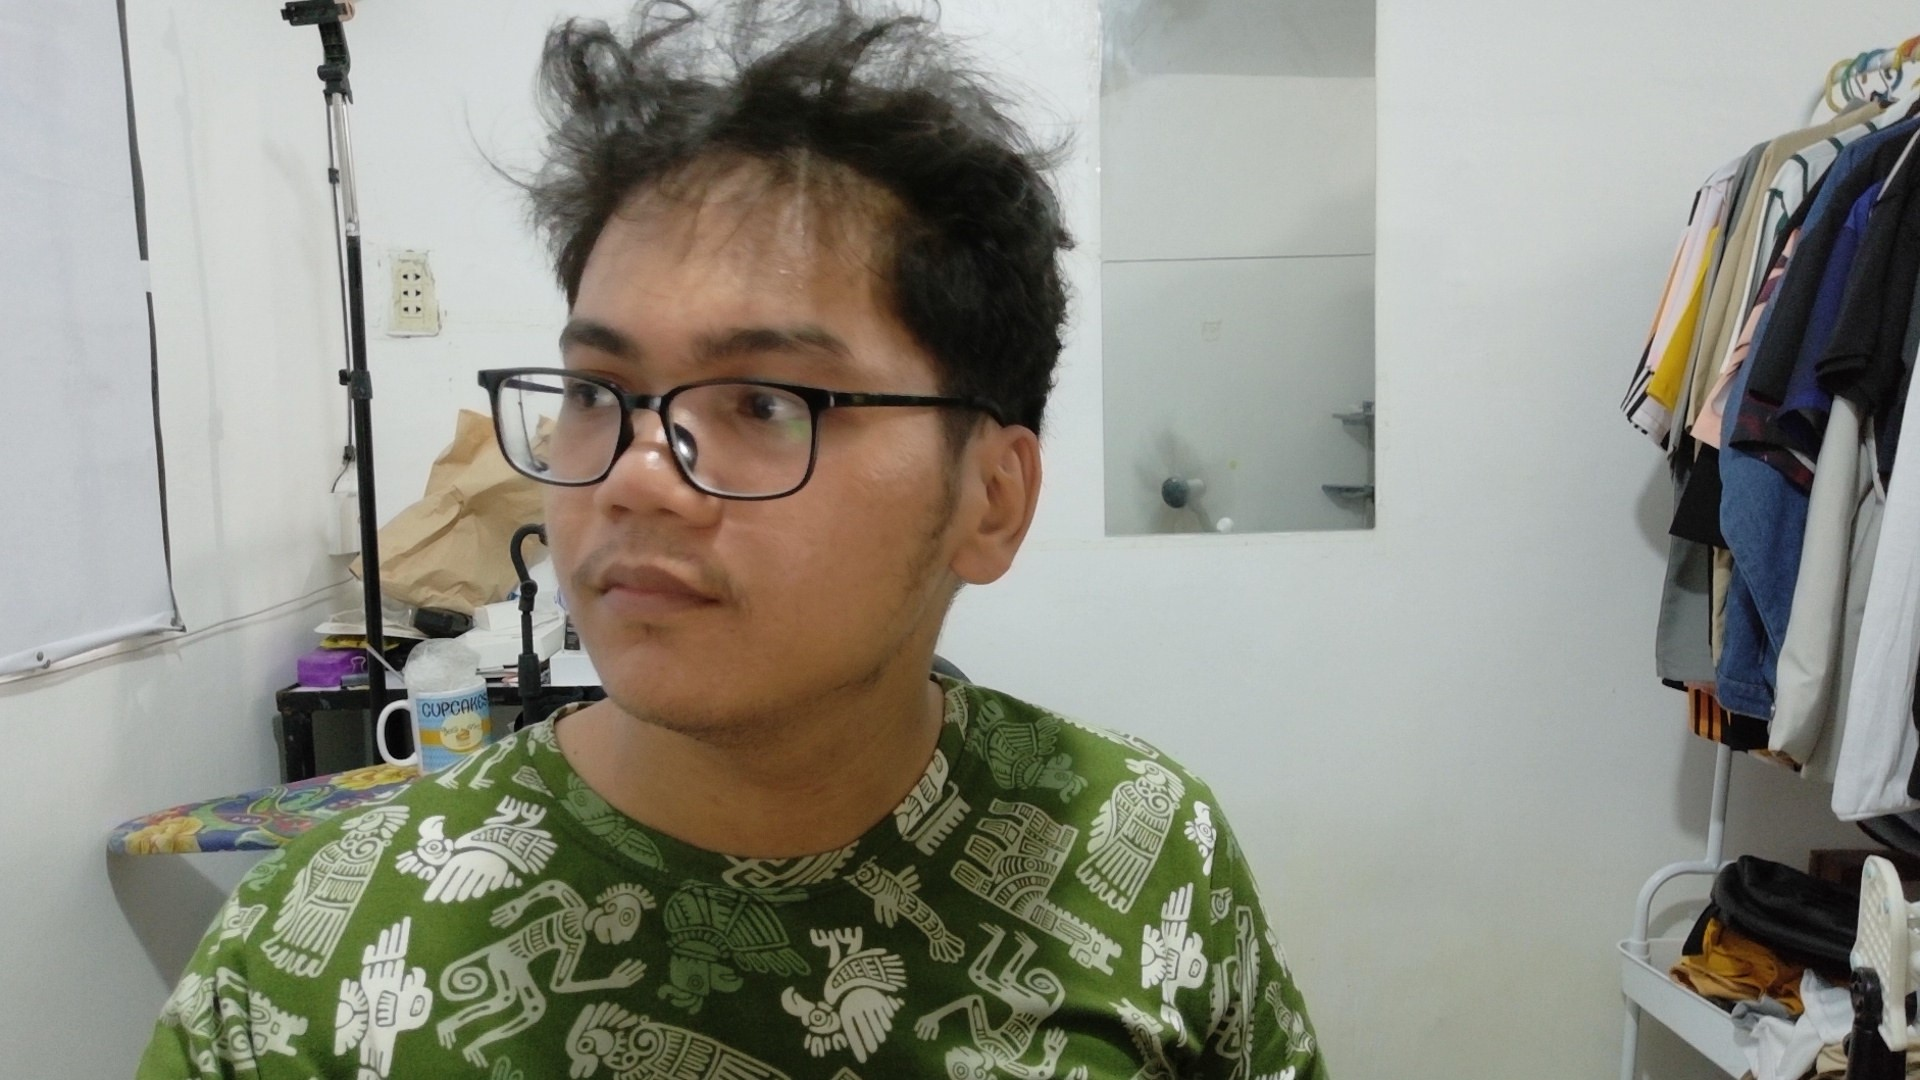face: (359, 43, 1135, 743)
